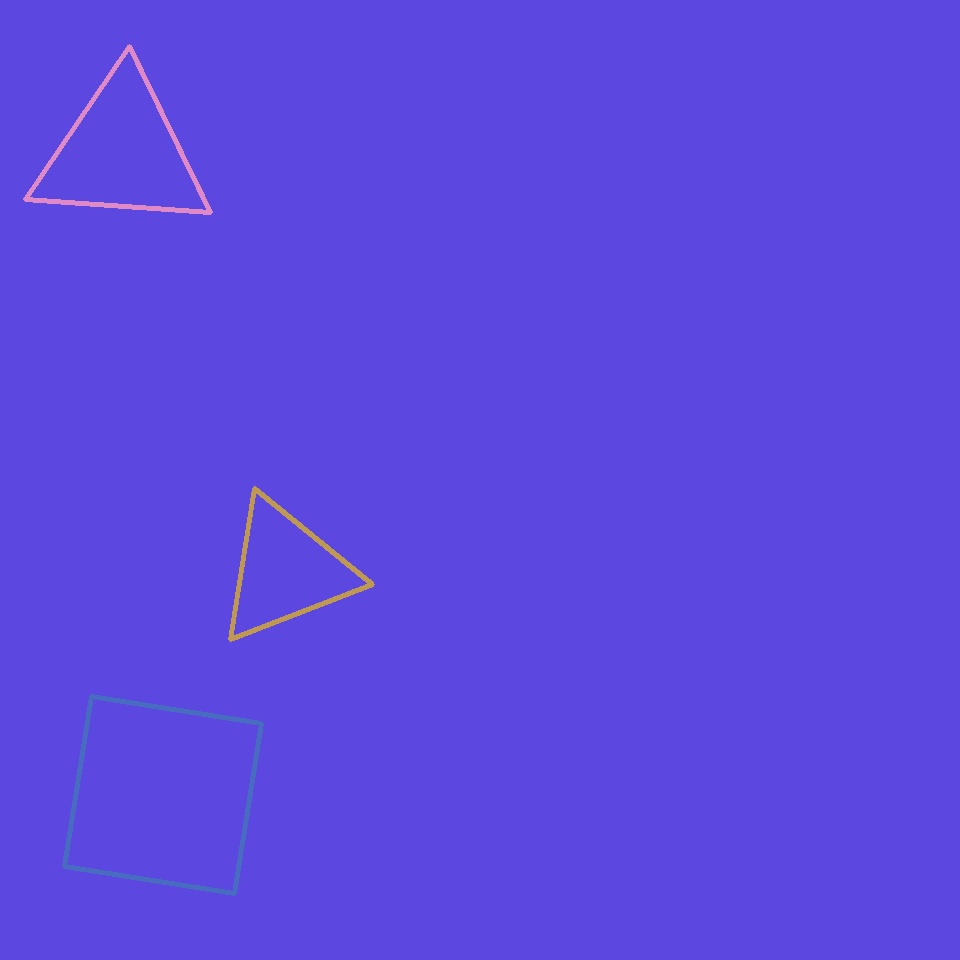circle: (29, 70, 214, 236), (215, 496, 357, 646)
square: (65, 696, 262, 894)
